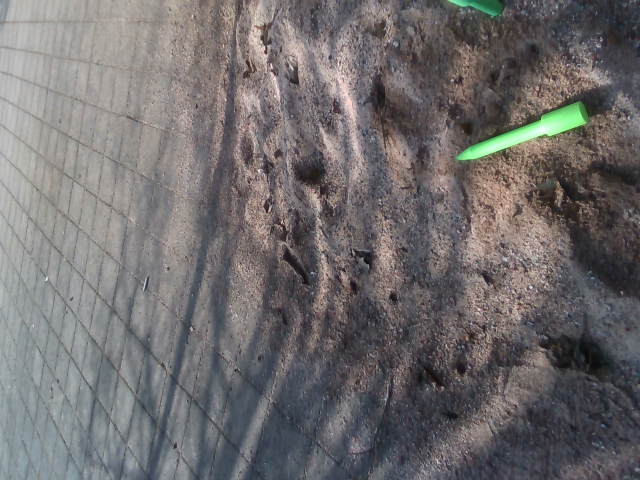Probe: (450, 98, 593, 165)
